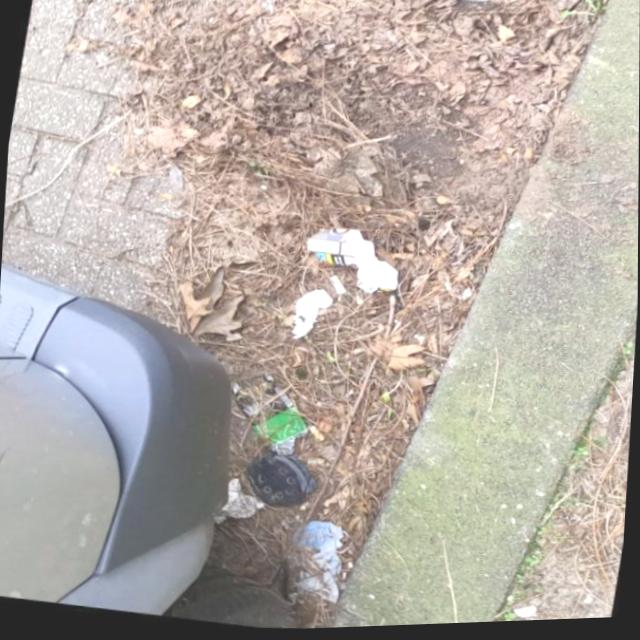Mask: (288, 521, 355, 610)
Paper: (303, 226, 401, 300), (214, 478, 266, 529), (289, 289, 335, 344), (250, 0, 312, 18)
Plastic: (249, 405, 310, 460)
